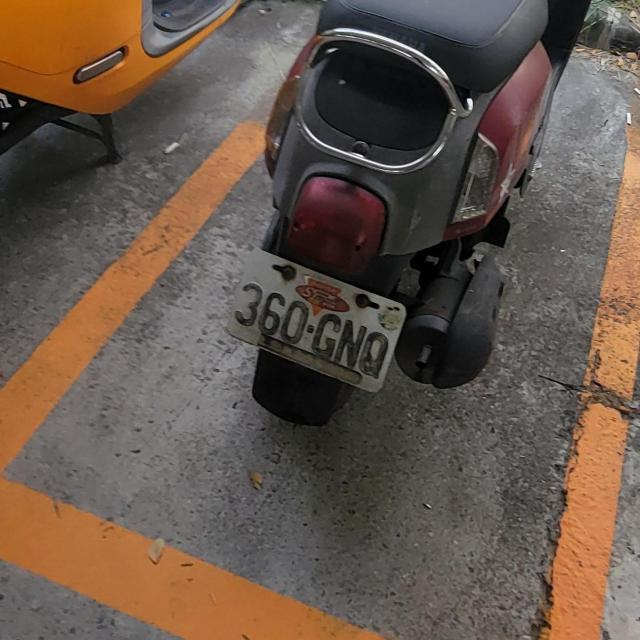W: (218, 240, 417, 396)
